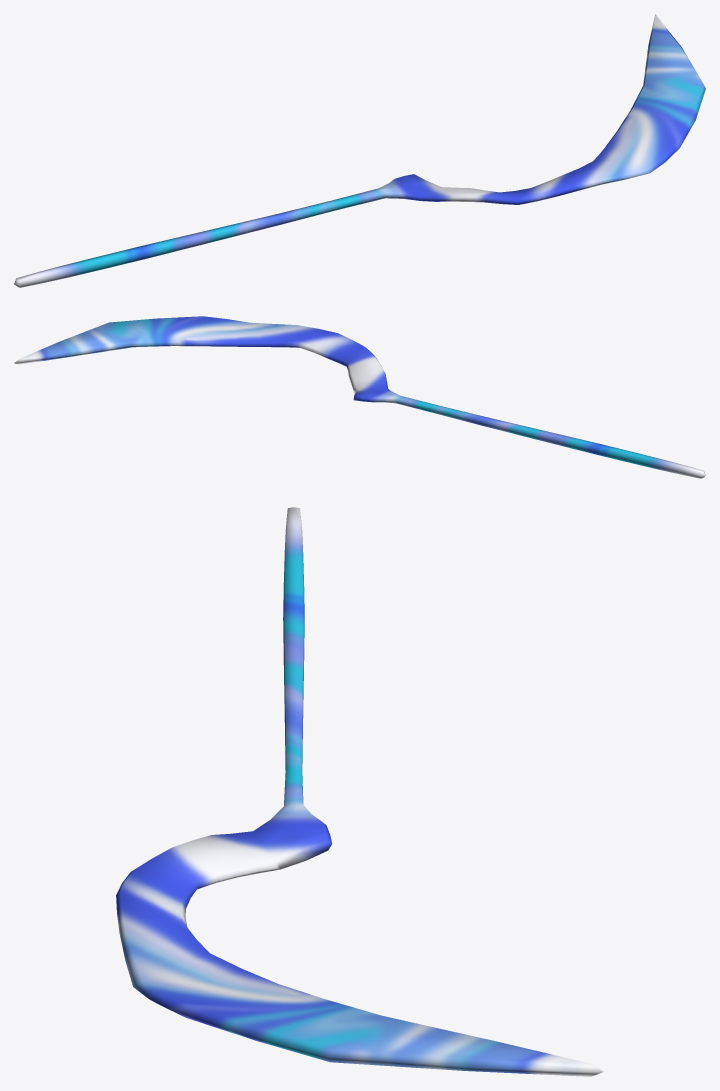
Rendered from weapon.glb.
3 views of the same model, one above another, from view 1: azimuth 30°, elevation 25°; view 2: azimuth 150°, elevation 25°; view 3: azimuth 270°, elevation 25° (orthographic). The views are drawn at different scales.
Parts seen in each view (by area): view 1: Cube; view 2: Cube; view 3: Cube.
Boxes of the visible parts, x1,y1,x2,y2 form: Cube: (14, 14, 705, 287); Cube: (14, 316, 705, 478); Cube: (116, 507, 603, 1076).
Size of the model in its own units: 11.37 by 0.4983 by 3.91.
1 material, 1 textured.
